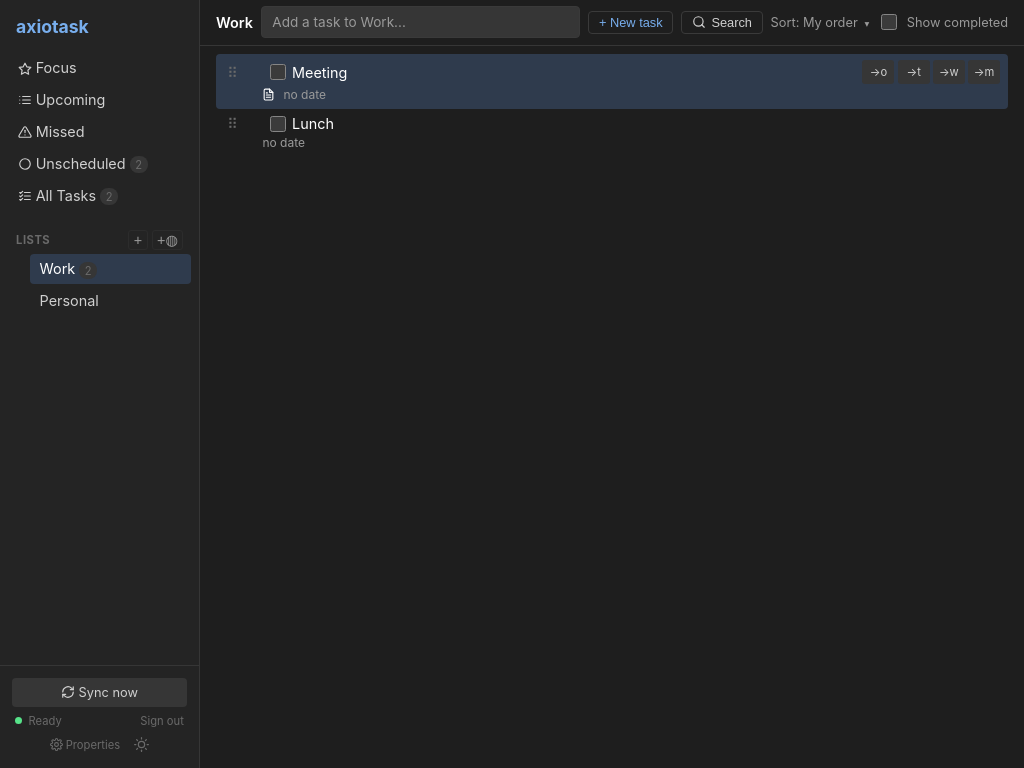
Test: GH#17: Search overlay › filters tasks by notes content
Expected: the text "Meeting" is shown, [292,64,347,81]
Press /
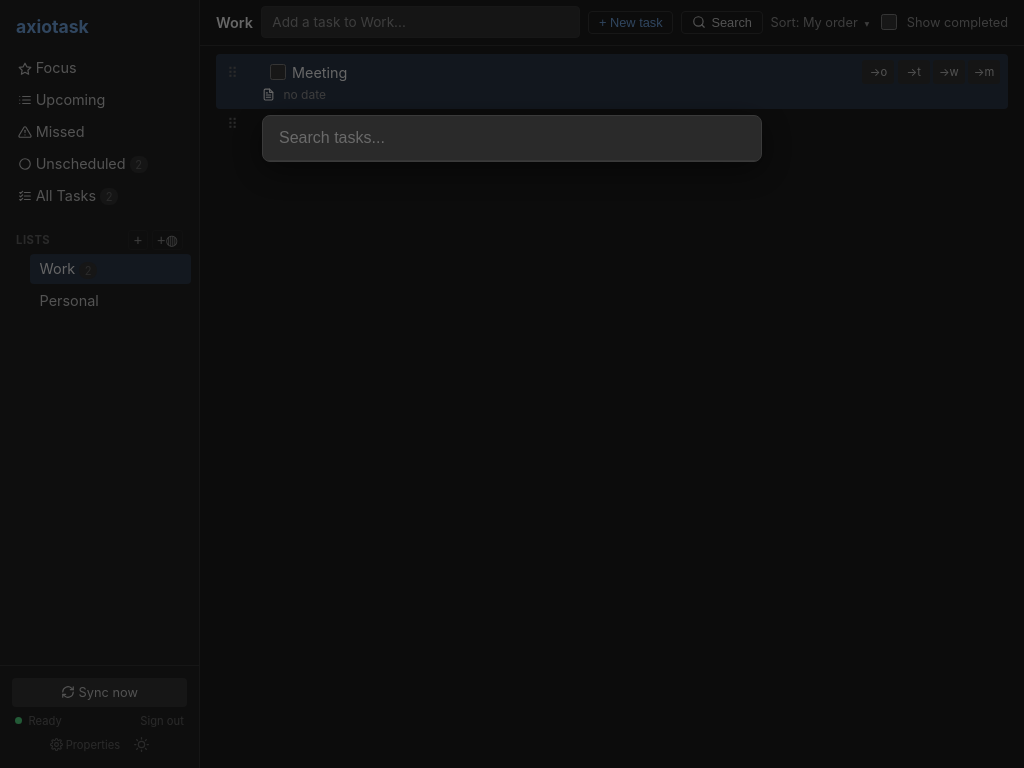
Type "budget" into the field with placeholder "Search tasks...".
click(512, 138); type("budget")  # box [263,116,761,161]
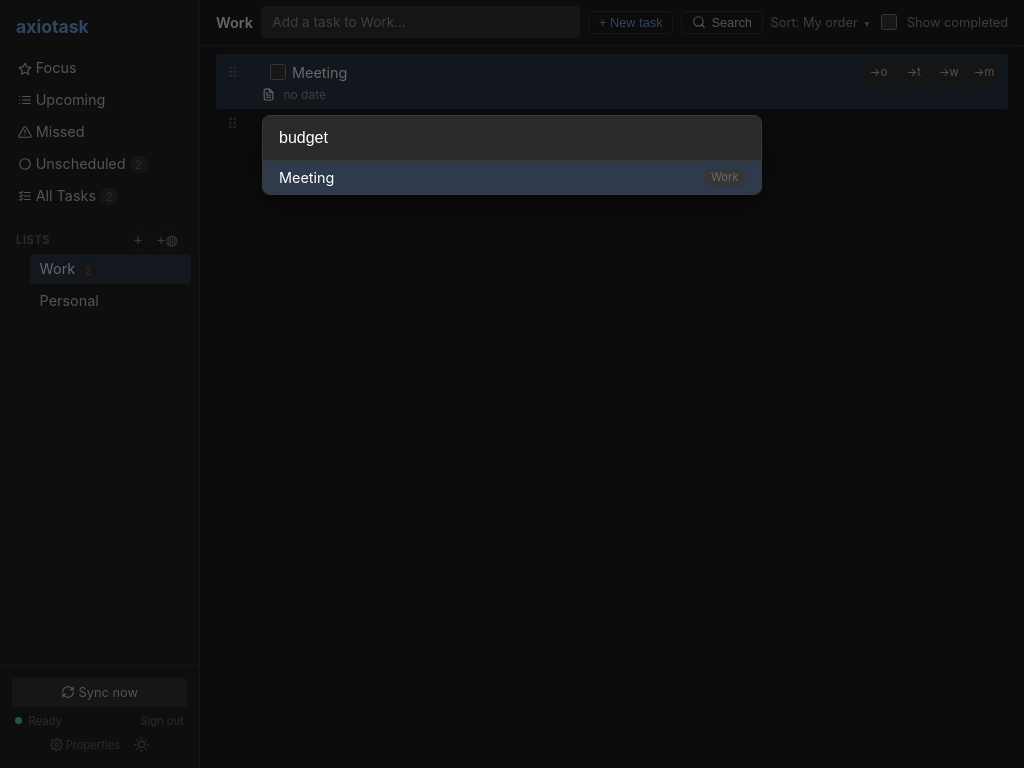
Result: the number of elements with class "result-title" is 1 at [279,169,334,186]
Result: the text with class "result-title" reads "Meeting" at [279,169,334,186]
